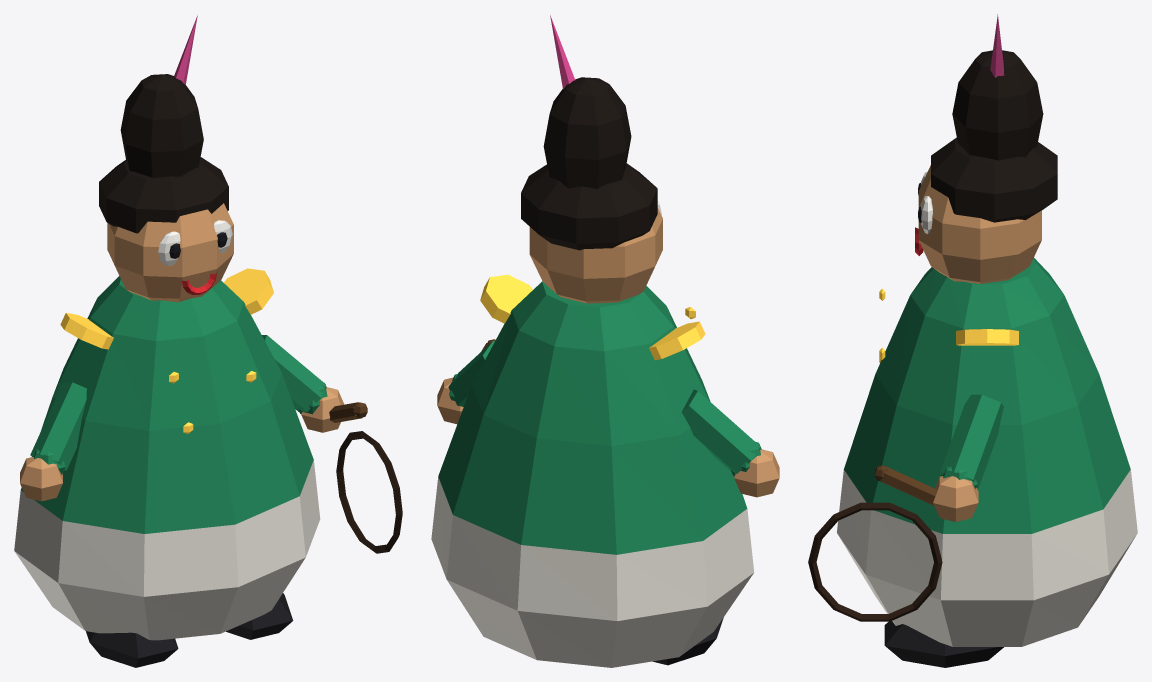
File: npc_domadora.glb
3 renders of one model, left to right at view 1: azimuth 30°, elevation 25°; view 2: azimuth 150°, elevation 25°; view 3: azimuth 270°, elevation 25°, orthographic. The views are drawn at different scales.
Visible parts, largest first — view 1: body_tamer_jacket, body_tamer_pants, head_hair_black, head_skin_arena, arms_tamer_jacket, legs_boots_black, body_gold, arms_skin_arena, props_whip, face_white, props_whip_handle; view 2: body_tamer_jacket, body_tamer_pants, head_hair_black, head_skin_arena, arms_tamer_jacket, body_gold, arms_skin_arena, legs_boots_black, head_feather; view 3: body_tamer_jacket, body_tamer_pants, head_hair_black, head_skin_arena, arms_tamer_jacket, props_whip, legs_boots_black, arms_skin_arena, body_gold, props_whip_handle, head_feather.
Part boxes in pixels (x1,y1,x2,y2): body_tamer_jacket: [21, 276, 313, 533]; body_tamer_pants: [14, 460, 320, 640]; head_hair_black: [99, 74, 228, 233]; head_skin_arena: [107, 203, 233, 302]; arms_tamer_jacket: [30, 335, 327, 474]; legs_boots_black: [86, 593, 293, 667]; body_gold: [60, 268, 273, 433]; arms_skin_arena: [20, 387, 344, 501]; props_whip: [336, 431, 402, 553]; face_white: [158, 220, 232, 265]; props_whip_handle: [329, 402, 367, 422]; body_tamer_jacket: [438, 281, 747, 554]; body_tamer_pants: [431, 477, 754, 667]; head_hair_black: [521, 77, 657, 250]; head_skin_arena: [529, 208, 662, 303]; arms_tamer_jacket: [448, 341, 761, 475]; body_gold: [480, 274, 705, 360]; arms_skin_arena: [437, 377, 779, 497]; legs_boots_black: [652, 617, 723, 665]; head_feather: [550, 15, 574, 89]; body_tamer_jacket: [844, 258, 1130, 533]; body_tamer_pants: [837, 469, 1137, 646]; head_hair_black: [931, 50, 1057, 222]; head_skin_arena: [918, 165, 1041, 283]; arms_tamer_jacket: [940, 394, 1003, 488]; props_whip: [808, 502, 942, 621]; legs_boots_black: [884, 621, 1003, 667]; arms_skin_arena: [933, 476, 978, 521]; body_gold: [879, 288, 1018, 362]; props_whip_handle: [874, 465, 936, 505]; head_feather: [990, 14, 1004, 77].
Size of the model in its own units: 1.13 by 2 by 0.942.
